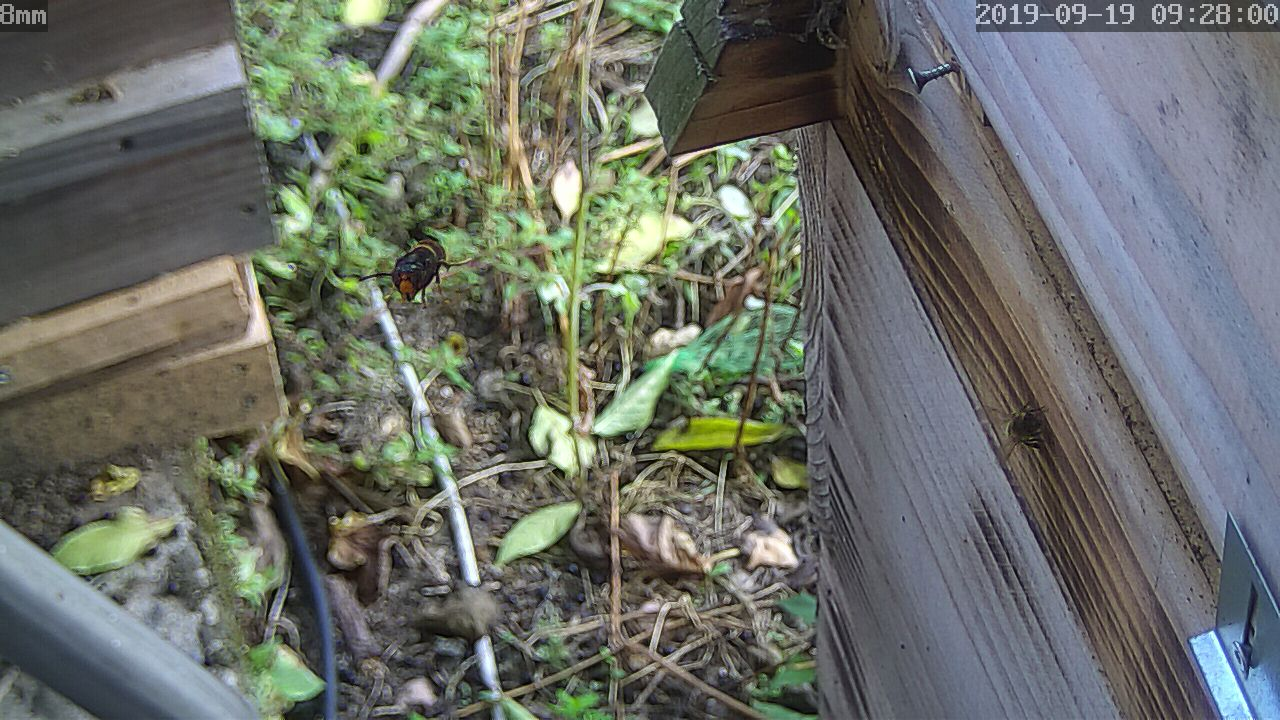bee: (990, 393, 1049, 460)
hornet: (367, 227, 462, 308)
